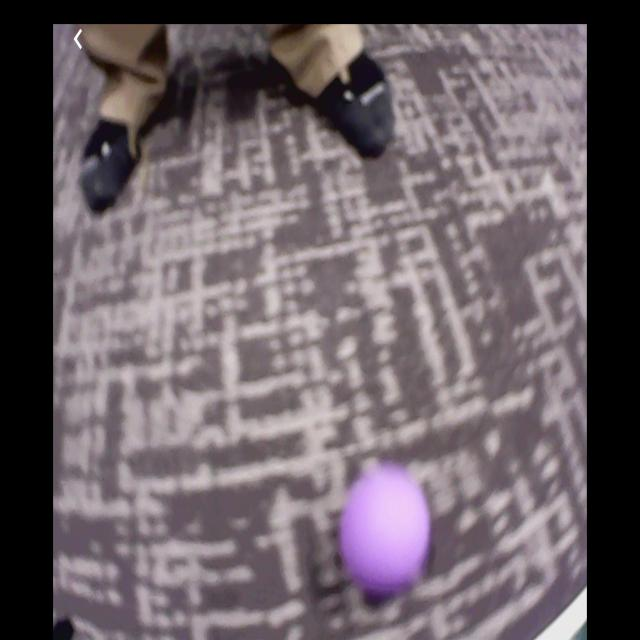ball: (344, 469, 429, 595)
